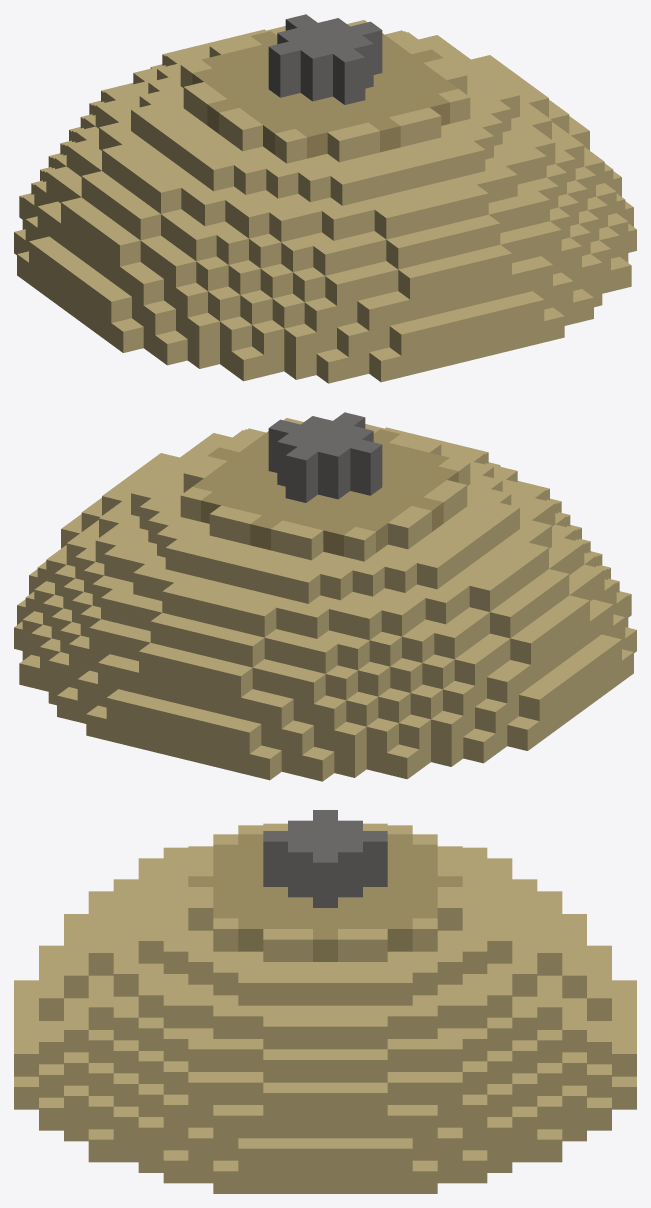
File: crown.glb
The picture shows the model from 3 angles, top to bottom: view 1: azimuth 30°, elevation 25°; view 2: azimuth 150°, elevation 25°; view 3: azimuth 270°, elevation 25°; orthographic projection. The views are drawn at different scales.
Bounding box in the file's own units: 25 × 10 × 25.
